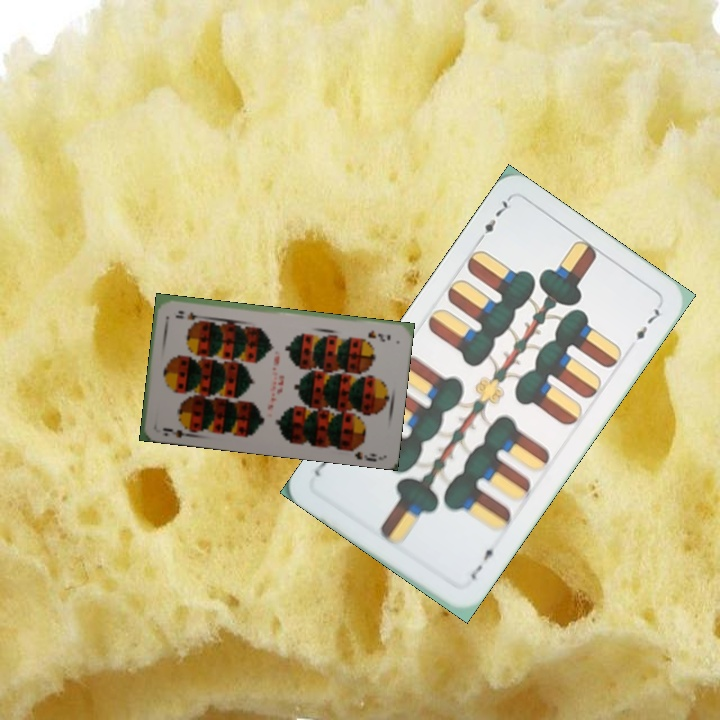E7: (473, 194, 515, 246), (466, 541, 501, 583)
S9: (158, 421, 196, 441), (364, 326, 393, 343)
